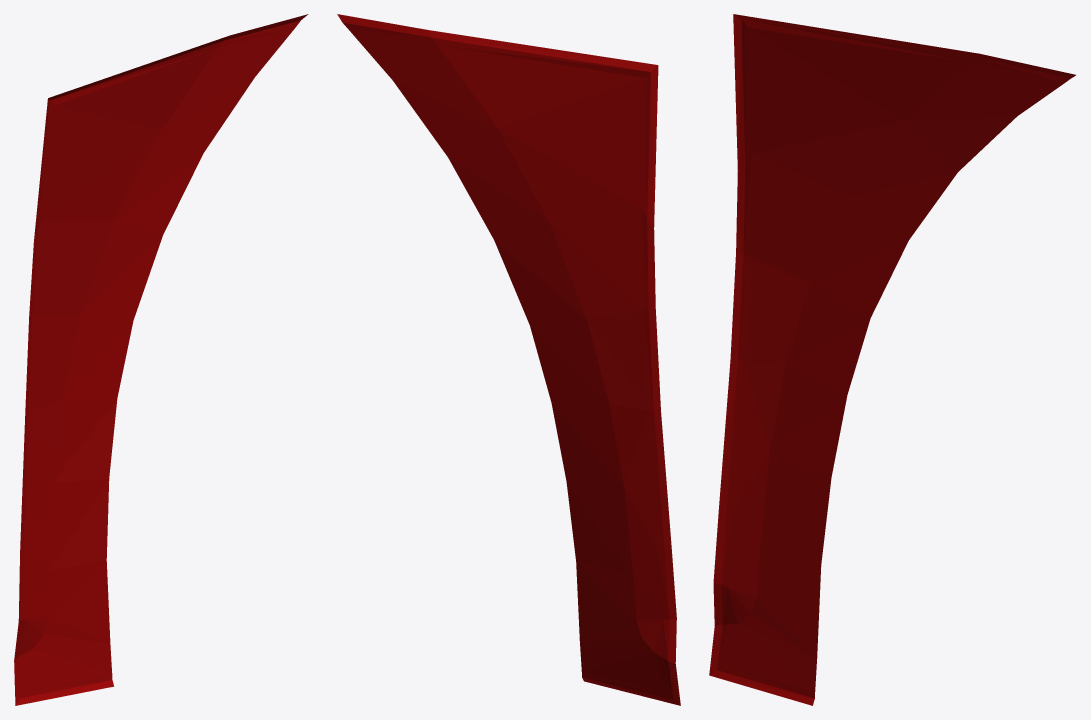
Rendered from fende1.002.dae.
3 renders of one model, left to right at view 1: azimuth 30°, elevation 25°; view 2: azimuth 150°, elevation 25°; view 3: azimuth 330°, elevation 25°, orthographic. The views are drawn at different scales.
Visible parts, largest first — view 1: fende1; view 2: fende1; view 3: fende1.
Boxes of the visible parts, x1,y1,x2,y2 form: fende1: (14,14,308,705); fende1: (337,14,680,705); fende1: (709,14,1075,705).
Bounding box in the file's own units: 24.11 × 3.38 × 44.84.
